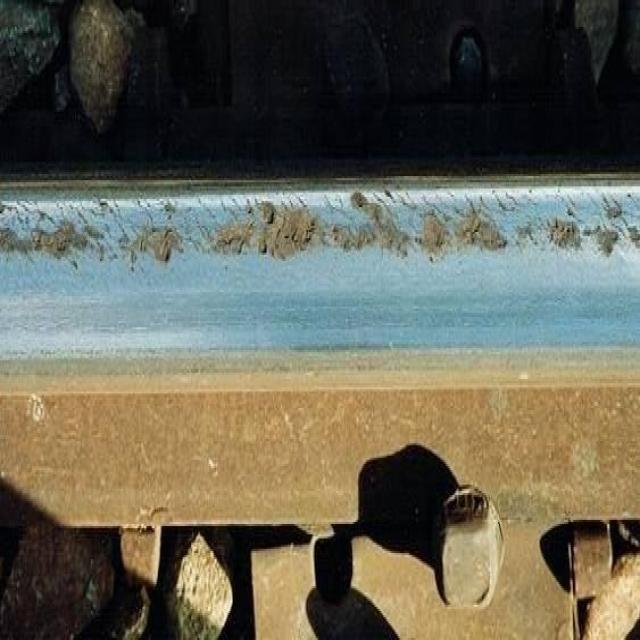head_checks_medium: (17, 178, 640, 270)
